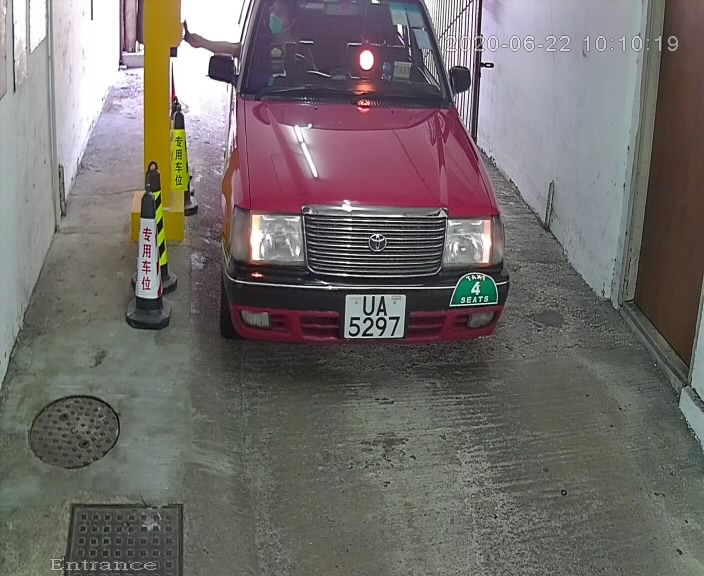taxi: (198, 1, 546, 366)
taxi_mark: (438, 262, 504, 311)
